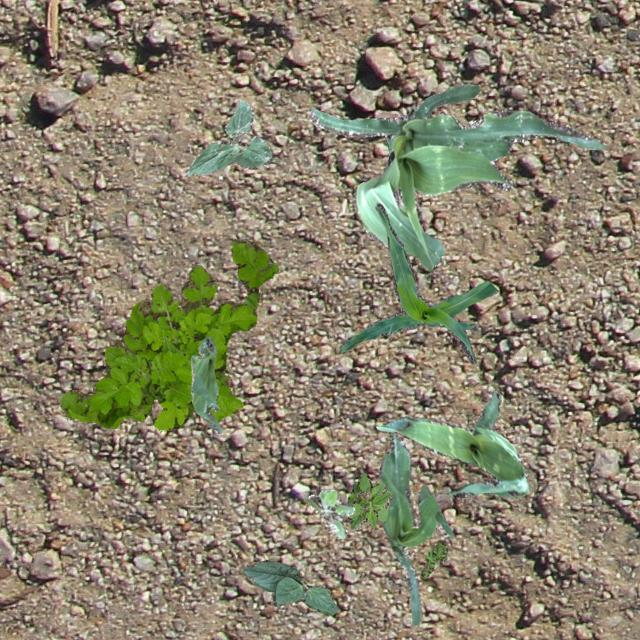crop: (307, 83, 605, 270), (338, 202, 496, 364), (376, 390, 528, 496), (378, 432, 452, 624), (185, 99, 272, 174), (242, 558, 336, 614), (190, 336, 220, 432)
weed: (59, 238, 278, 430), (346, 472, 390, 530), (302, 488, 353, 538), (418, 542, 448, 578)
